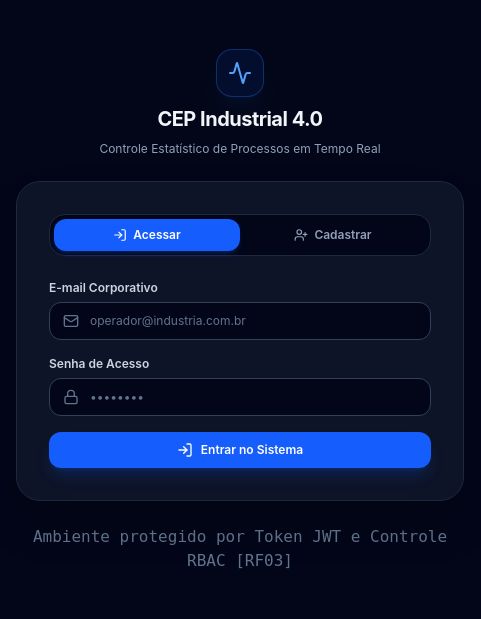
Test case: Fase 6 - Autenticação, RBAC e Experiência do Usuário › LoginPage › deve validar e-mail e senha antes de enviar formulário de login
// E-mail inválido
Step 1. Type "emailinvalido" into the field labelled "E-mail Corporativo" → (240, 321), box top-left (49, 302), bottom-right (431, 340)
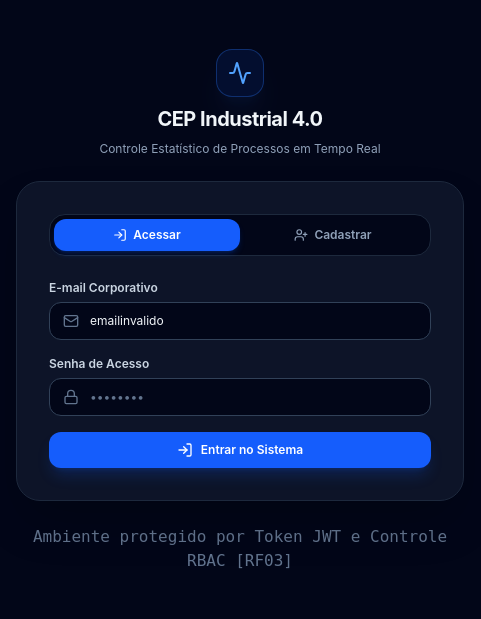
Step 2. Type "123" into the password field labelled "Senha de Acesso" → (240, 397), box top-left (49, 378), bottom-right (431, 416)
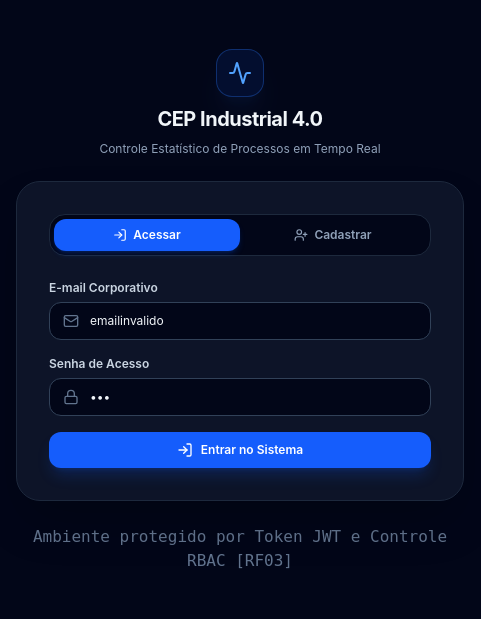
Step 3. Click the button "Entrar no Sistema" → (240, 450), box top-left (49, 432), bottom-right (431, 468)
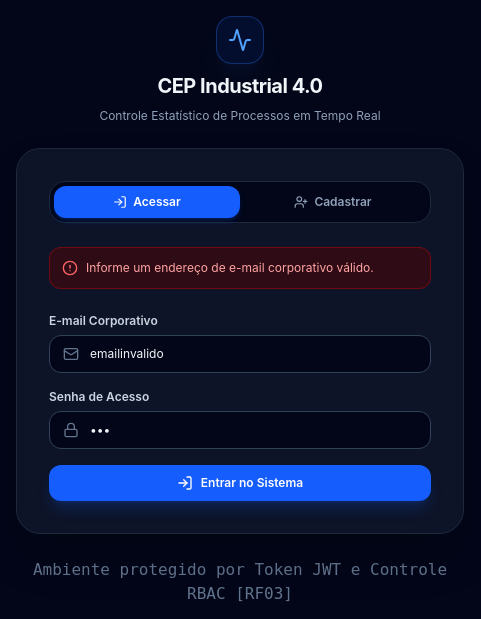
expect the text "Informe um endereço de e-mail corporativo válido." is shown: met, box top-left (86, 260), bottom-right (374, 276)
// Senha curta
Step 4. Replace the text in the field labelled "E-mail Corporativo" with "lucas@fabrica.com" → (240, 354), box top-left (49, 335), bottom-right (431, 373)
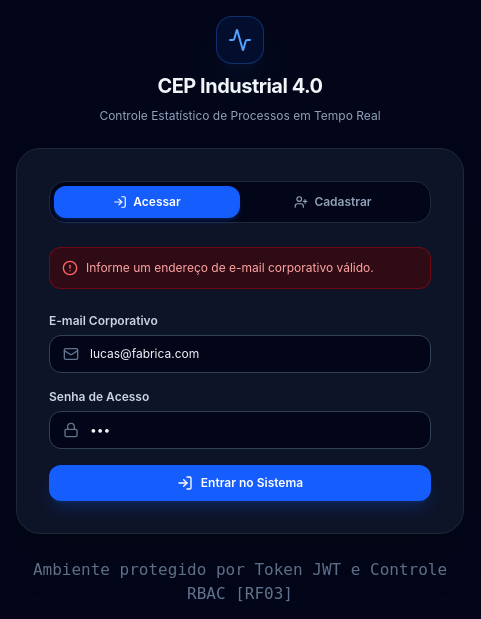
Step 5. Click the button "Entrar no Sistema" → (240, 483), box top-left (49, 465), bottom-right (431, 501)
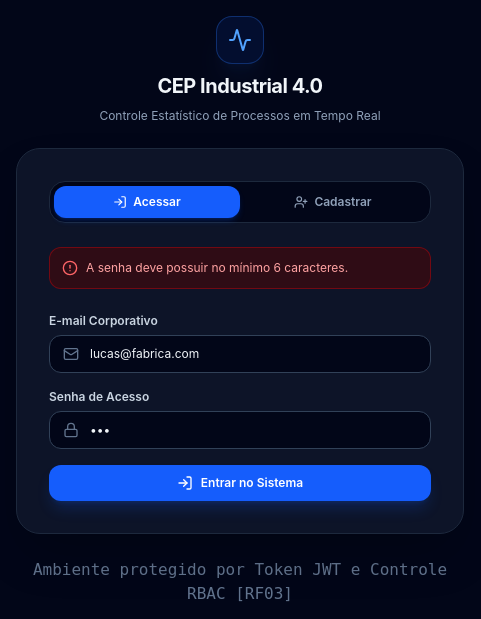
expect the text "A senha deve possuir no mínimo 6 caracteres." is shown: met, box top-left (86, 260), bottom-right (348, 276)
